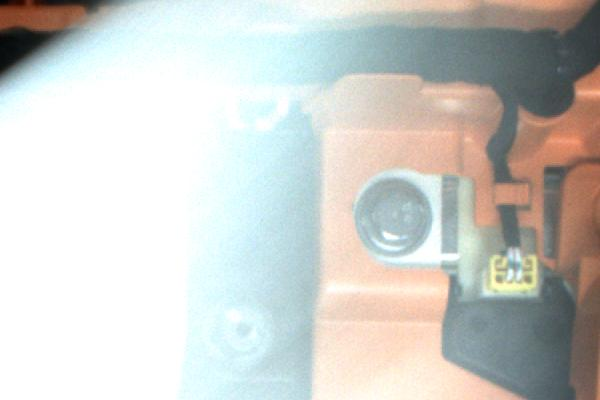nut_b: (356, 183, 448, 262)
